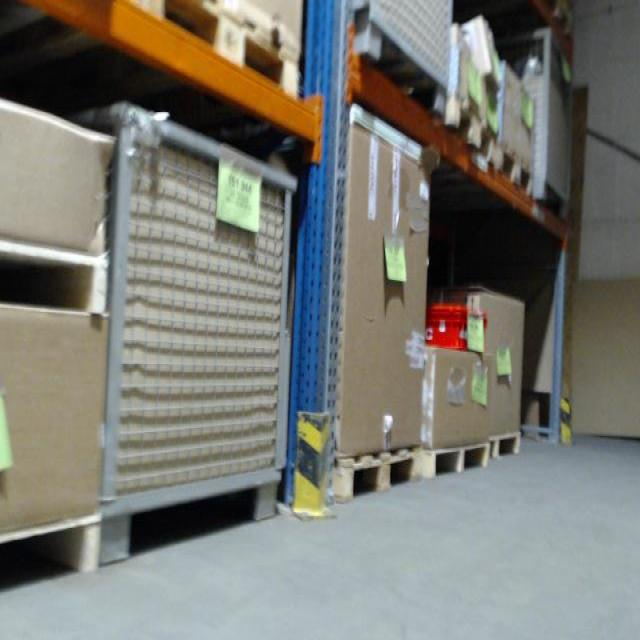pallet: (124, 0, 303, 105), (5, 248, 116, 311), (326, 441, 425, 507), (0, 515, 101, 579), (440, 89, 501, 169), (420, 434, 495, 485), (499, 143, 536, 194), (488, 431, 524, 465)
small_load_carrier: (426, 300, 489, 350)
stillage: (107, 98, 294, 567), (485, 21, 577, 233), (345, 2, 458, 123)
